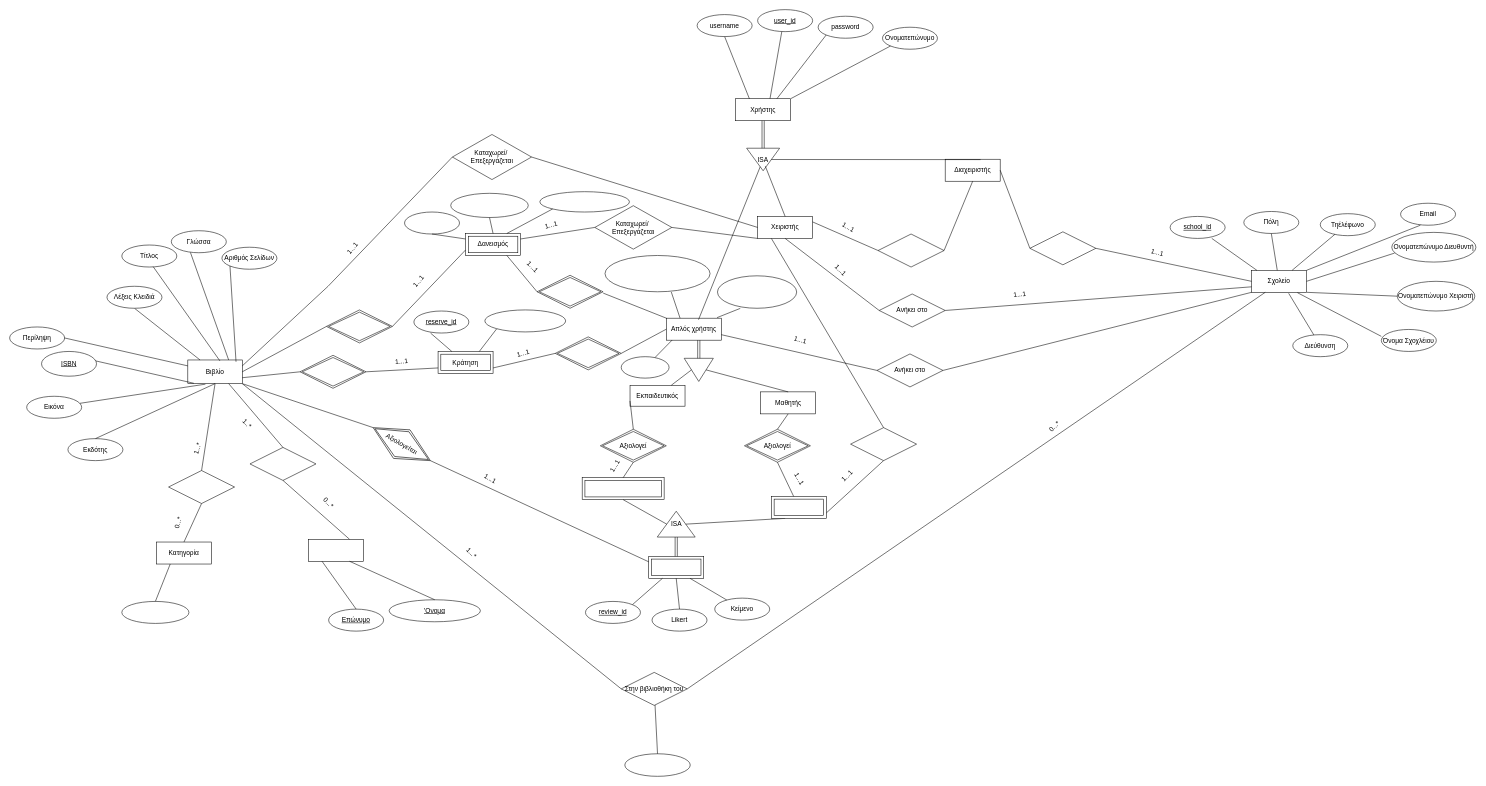
Some shapes in this 1486 by 786 pixel diagram are drawn without their labels. The box of each missing label's shape, as (x1, y1, x2, y2) in pixels:
borrow_id: (404, 211, 460, 234)
Έχει γράψει: (249, 447, 316, 480)
Ανήκει: (168, 470, 235, 504)
Αξιολόγηση: (648, 556, 704, 578)
Απαιτεί Έγκριση: (771, 496, 826, 518)
Αριθμός Ενεργών Δανεισμών: (717, 275, 797, 308)
Αριθμός Ενεργών Κρατήσεων: (604, 255, 710, 292)
Δεν απαιτεί έγκριση: (582, 477, 664, 500)
Διαθέσιμα Αντίτυπα: (624, 753, 690, 776)
Εγκίρνει αίτηση: (878, 233, 944, 267)
Εγκρίνει: (850, 427, 917, 461)
Ηλικία: (621, 356, 669, 378)
Ημερομηνία Δανεισμού: (450, 193, 528, 218)
Ημερομηνία Επιστροφής: (539, 191, 629, 212)
Ημερομηνία Κράτησης: (484, 309, 566, 332)
ΙSA: (684, 358, 713, 381)
Κάνει: (555, 336, 621, 370)
Καταχωρεί: (1029, 231, 1096, 265)
Κρατείται: (299, 355, 366, 388)
Πραγματοποιεί: (537, 275, 603, 308)
Συγγραφέας: (308, 539, 363, 561)
Συμμετέχει: (326, 309, 392, 343)
όνομα Κατηγορίας: (121, 601, 189, 623)
